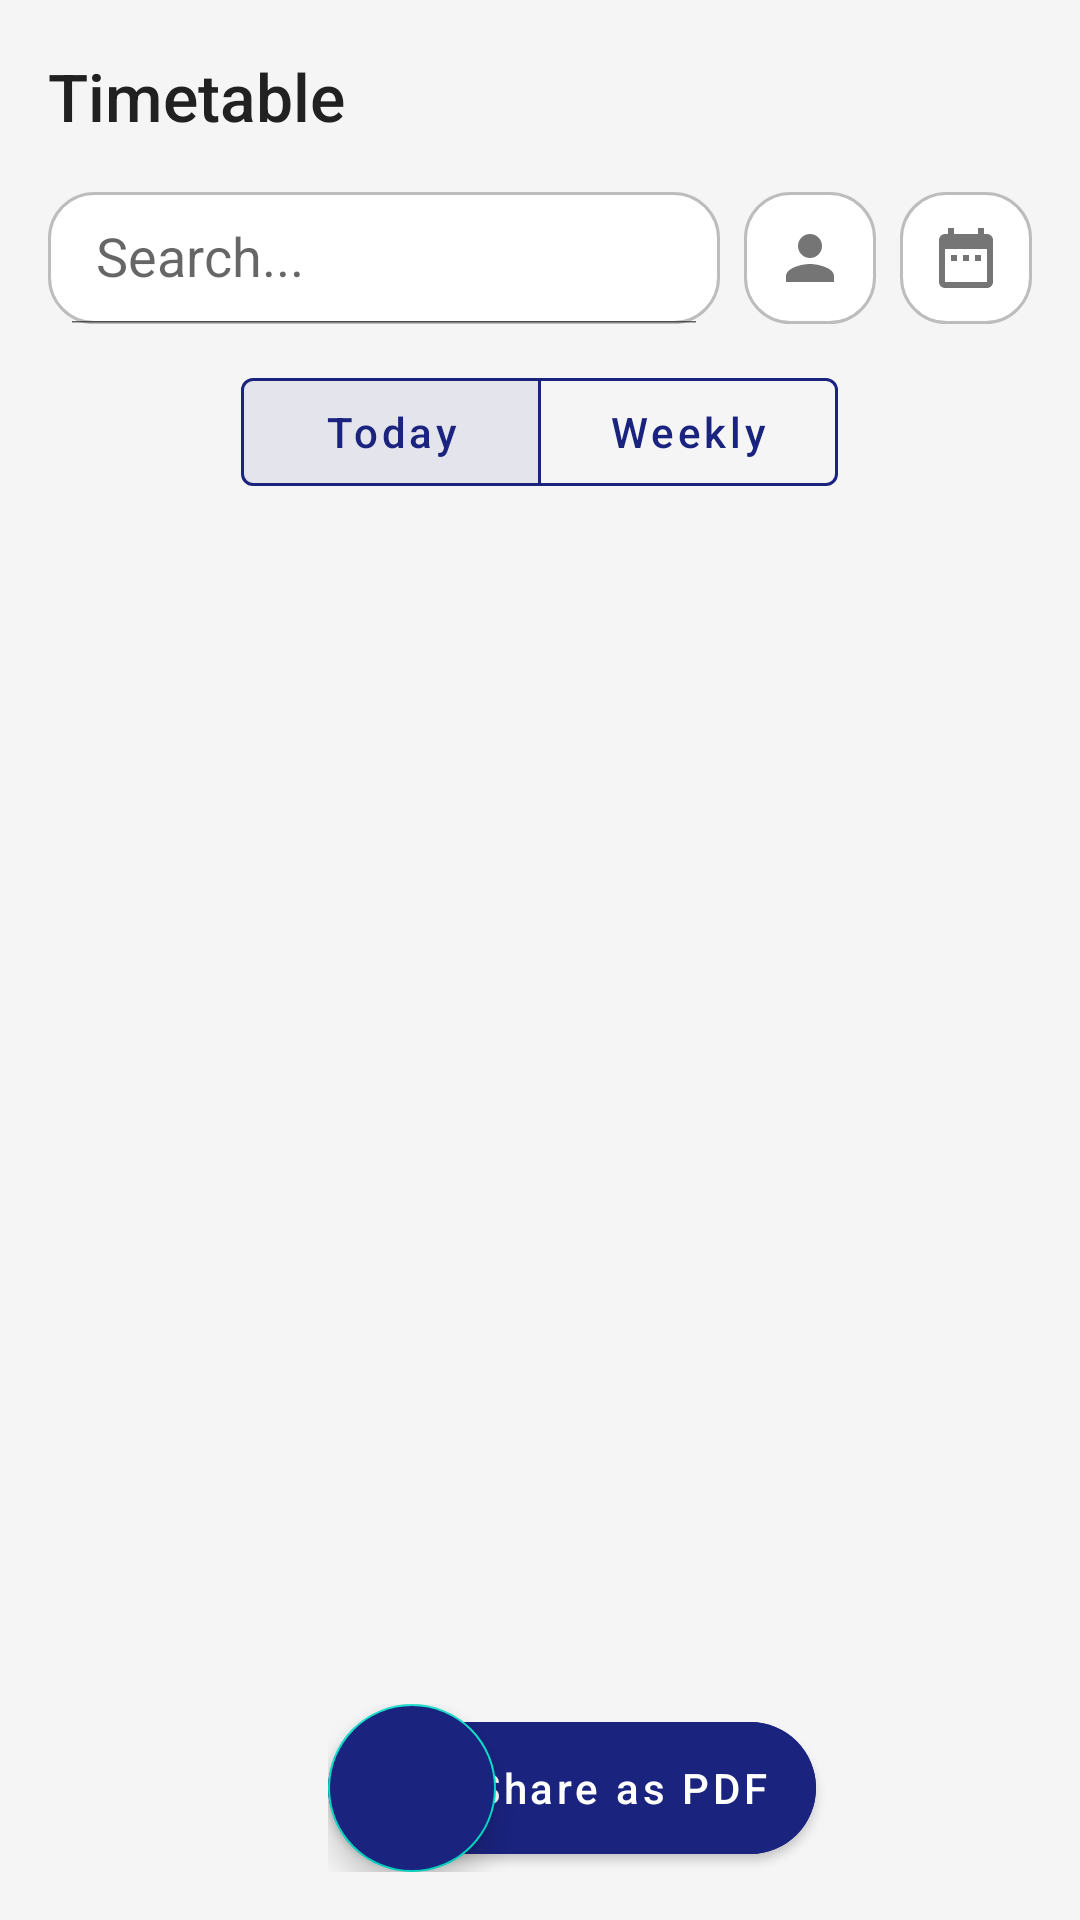

Where to tap for icons on this 1080×1920 app screen, as (x=x, y=y):
profile: (x=810, y=258)
timetable: (x=966, y=258)
